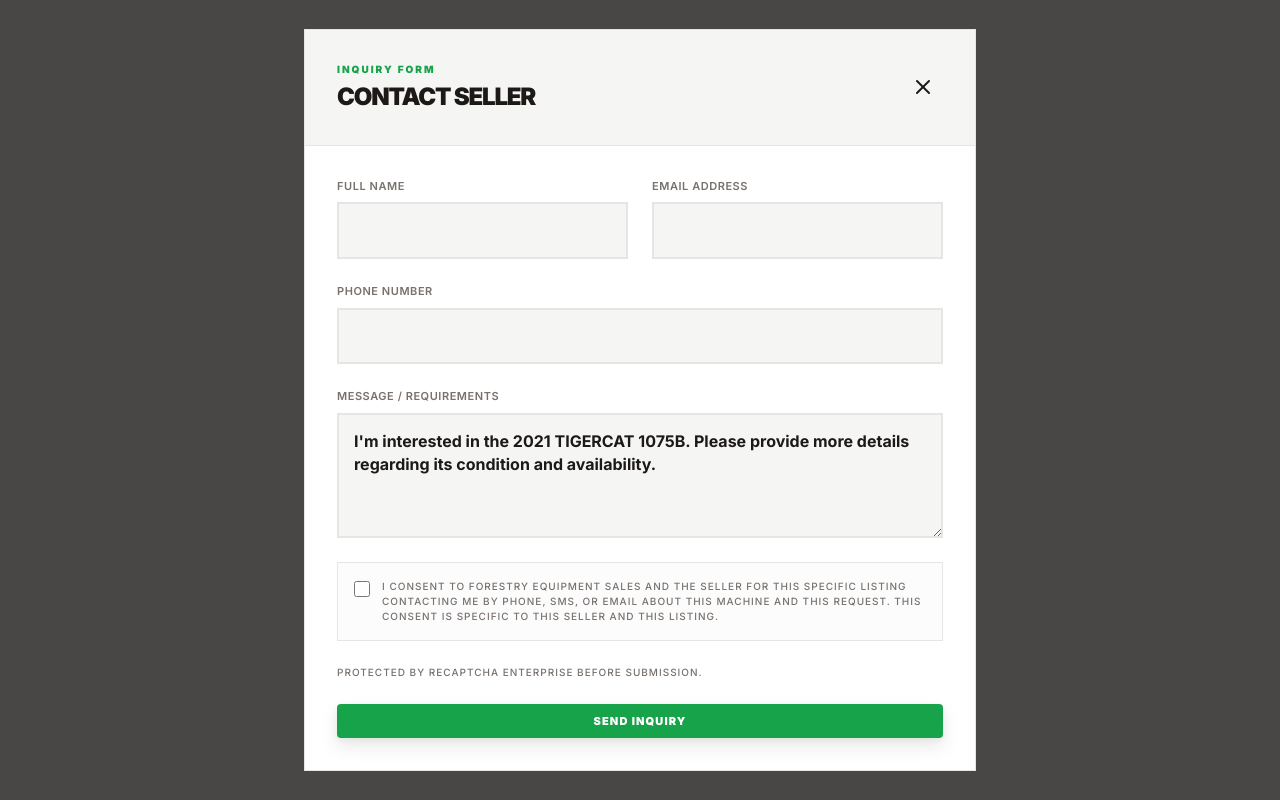
Test case: InquiryModal component › requires seller-specific consent before sending the inquiry
Type "Caleb Happy" into the field labelled "Full Name" at (482,231), box [337,202,628,259]
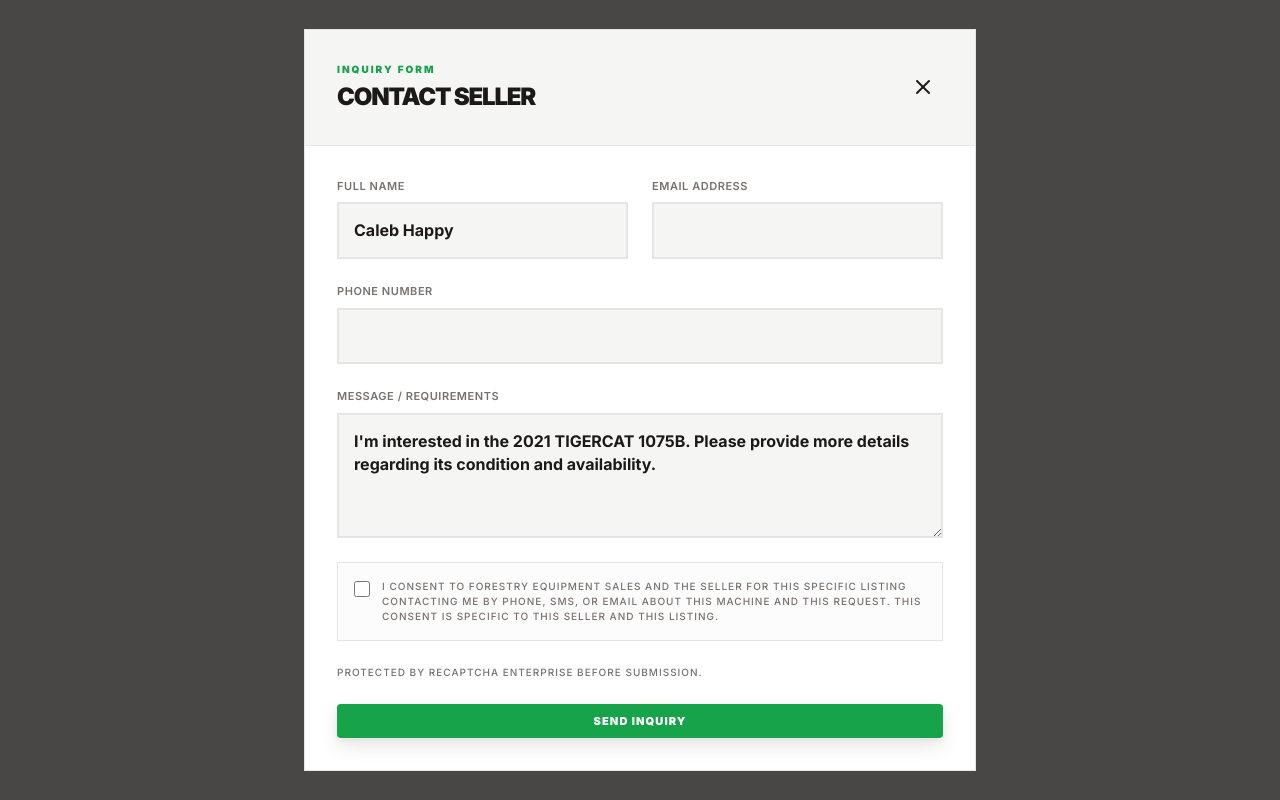
Type "admin@example.com" into the field labelled "Email Address" at (798,231), box [652,202,943,259]
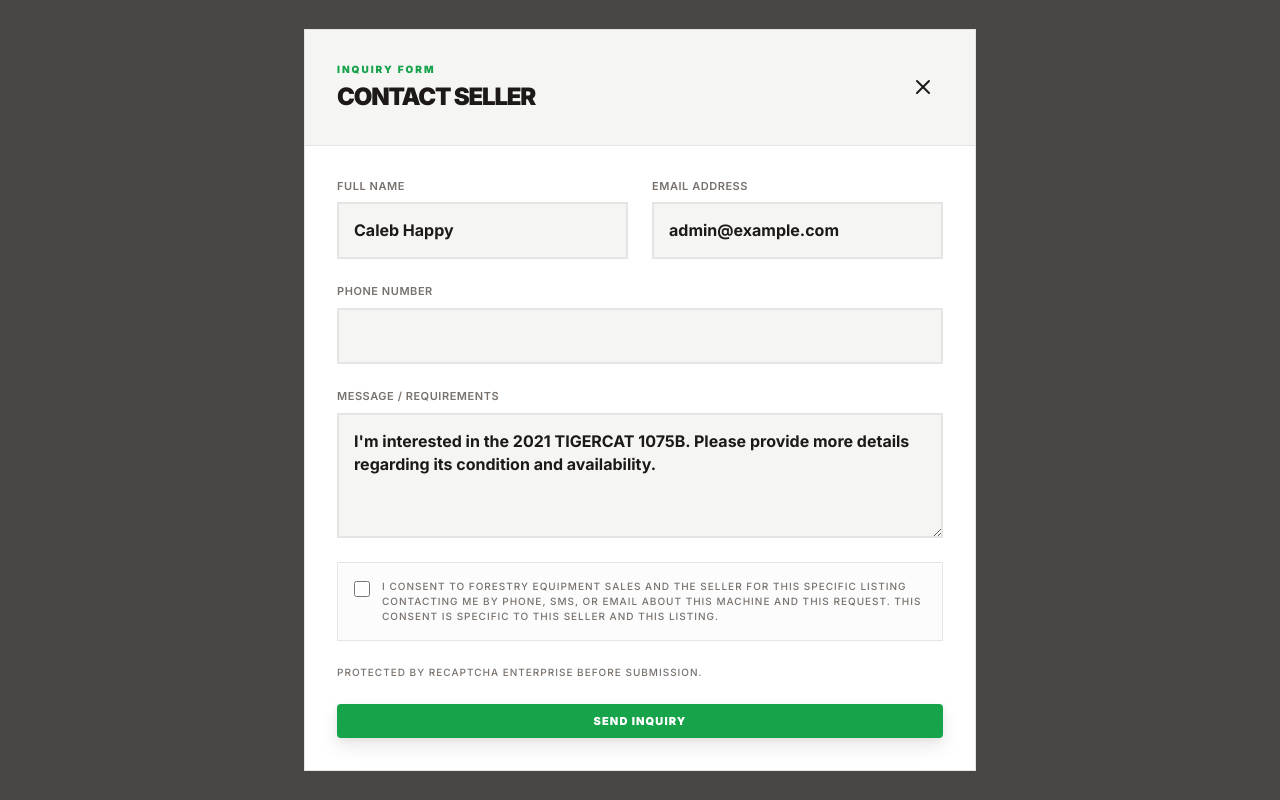
Type "+12187200933" into the field labelled "Phone Number" at (640,336), box [337,308,943,364]
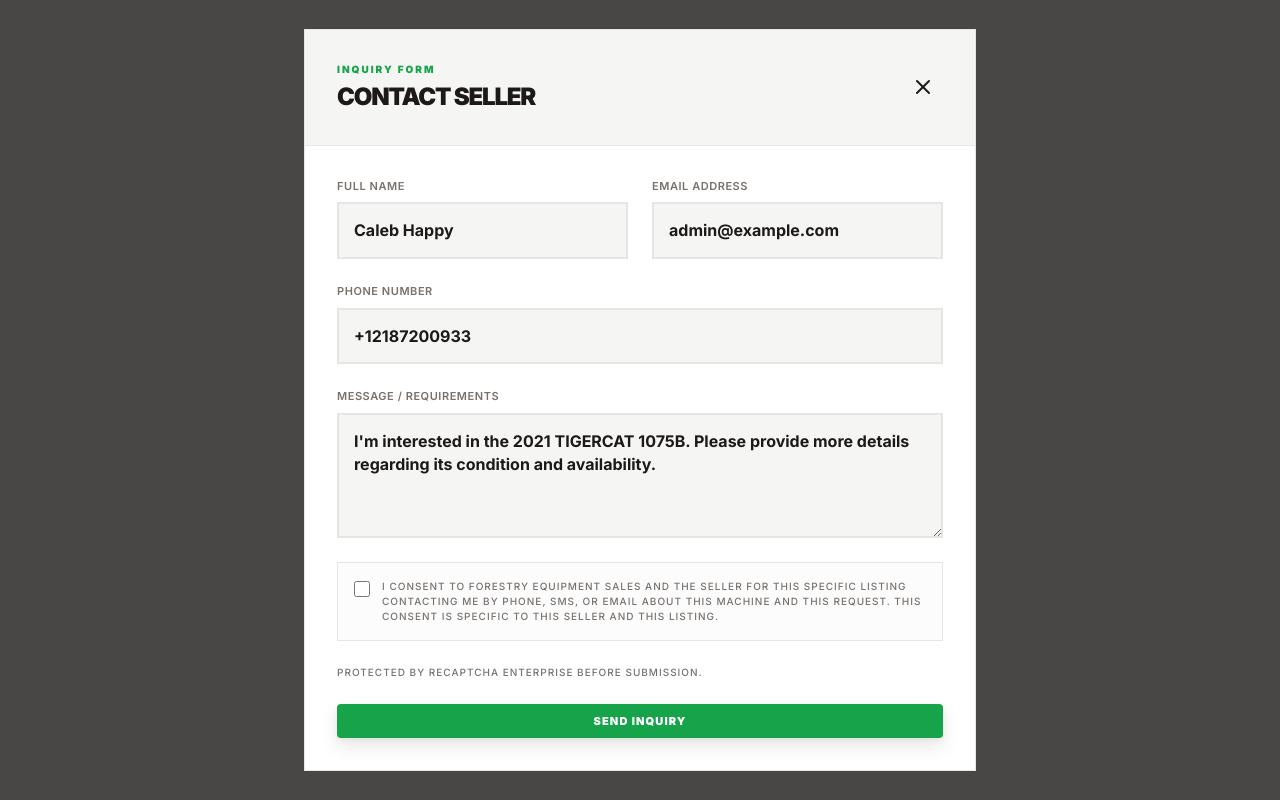
Submit the form named "send inquiry", box [337,178,943,738]
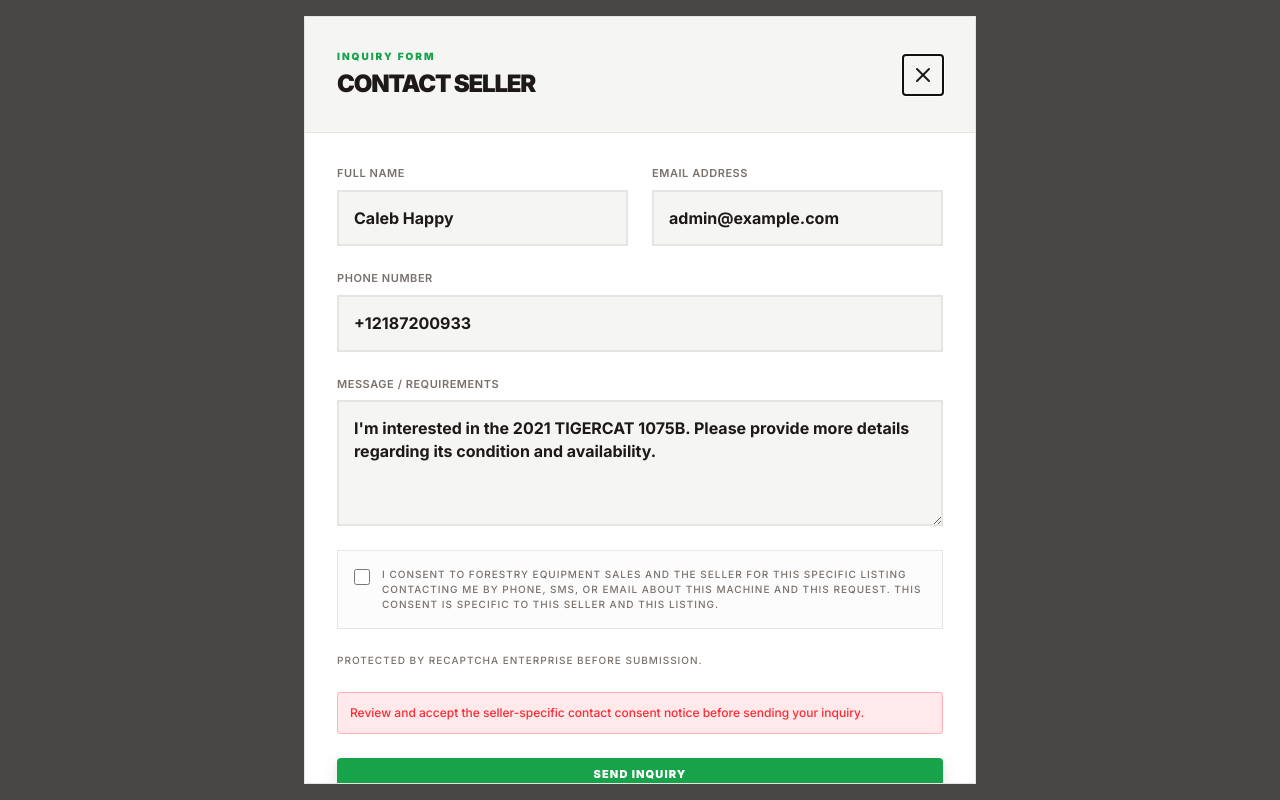
Check: the text "Review and accept the seller-specific contact consent notice" is shown, box [350,705,864,720]
